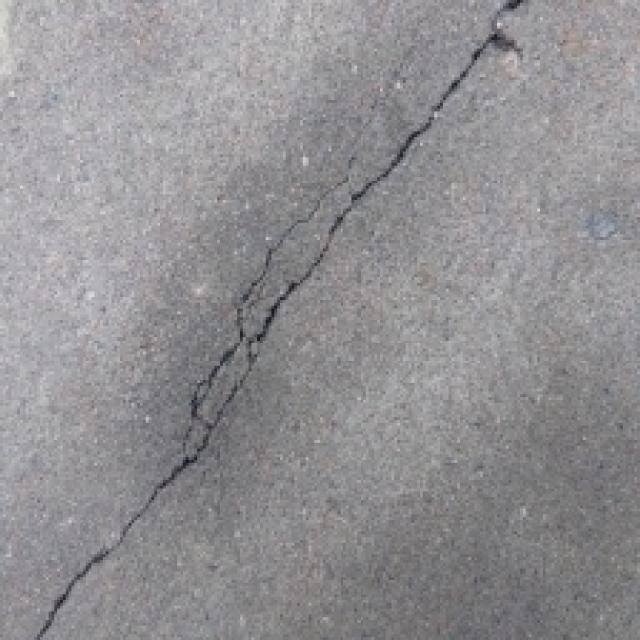crack: (32, 0, 548, 640)
